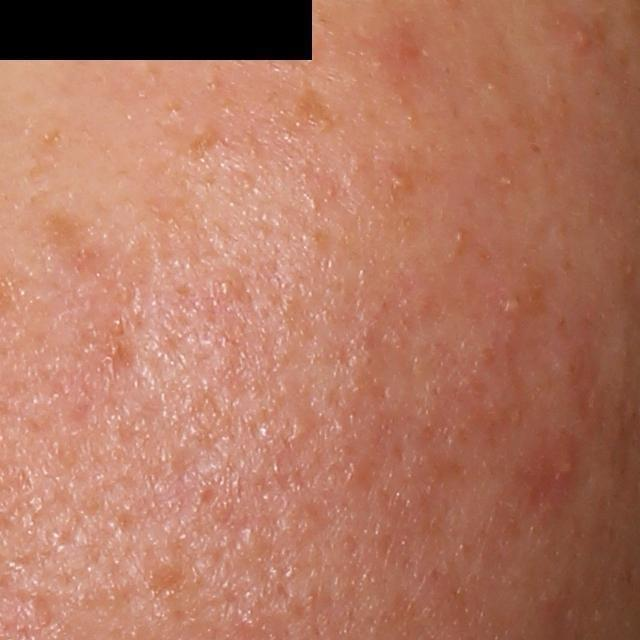comedo: (503, 294, 520, 314)
melasma: (36, 210, 91, 255), (289, 86, 337, 135)
papule: (573, 26, 593, 50)
